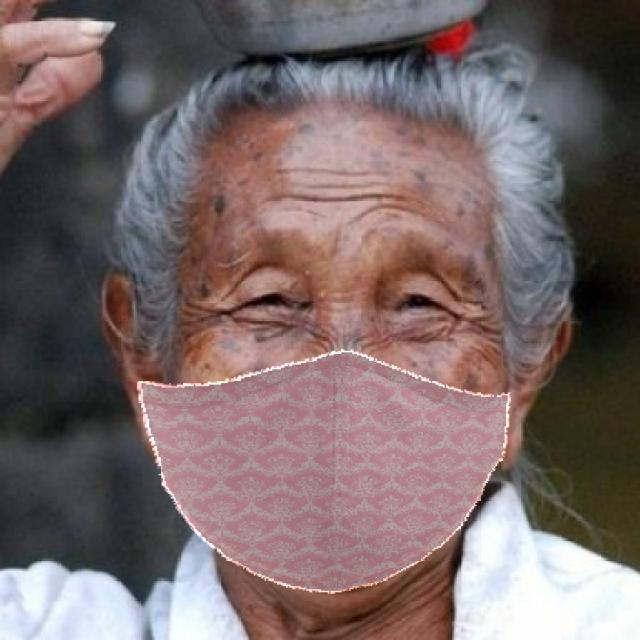mask: (108, 322, 546, 595)
